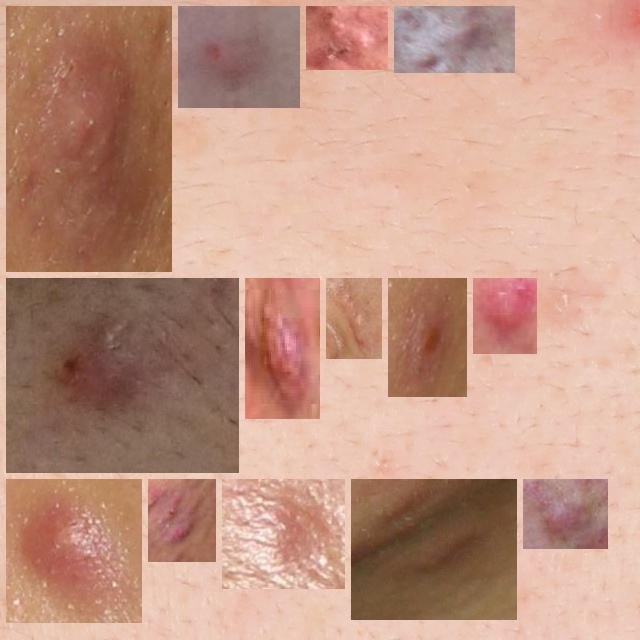nodule: (14, 286, 231, 465), (14, 14, 164, 264), (359, 487, 509, 612), (14, 487, 134, 615), (230, 487, 337, 581), (186, 14, 292, 100), (253, 286, 312, 411), (396, 286, 459, 389), (402, 14, 507, 65), (531, 487, 600, 541), (156, 487, 208, 554), (314, 14, 380, 62), (481, 286, 529, 346), (334, 286, 374, 351)
